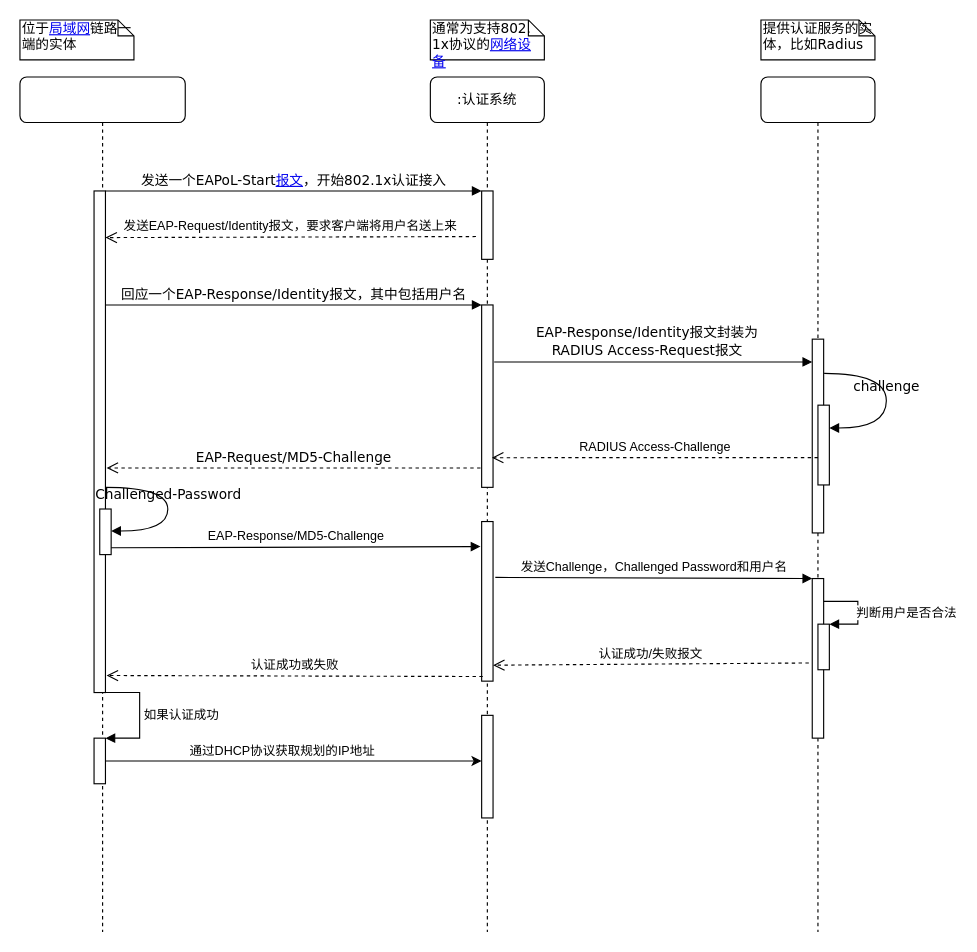
The diagram is 977 pixels wide and 952 high, and some of its shapes have lost their labels. Each missing label, with the centre of its shape:
":认证服务器系统" goes at [817,504].
":请求者系统" goes at [102,504].
